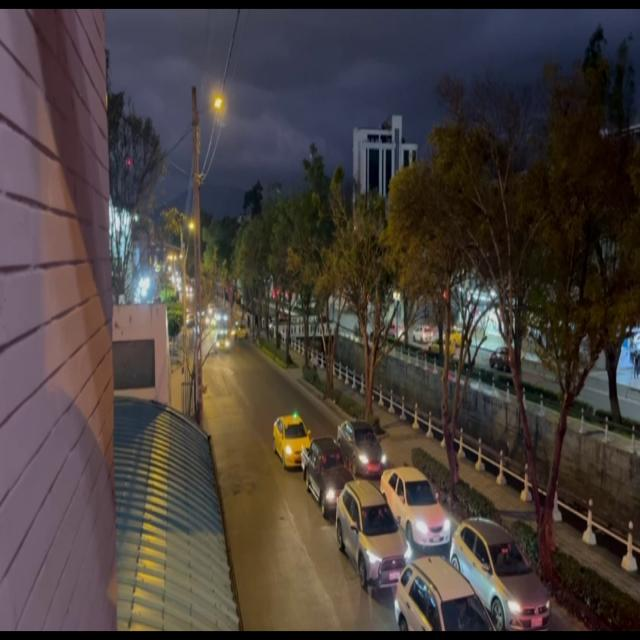CMT: (304, 437, 351, 512)
